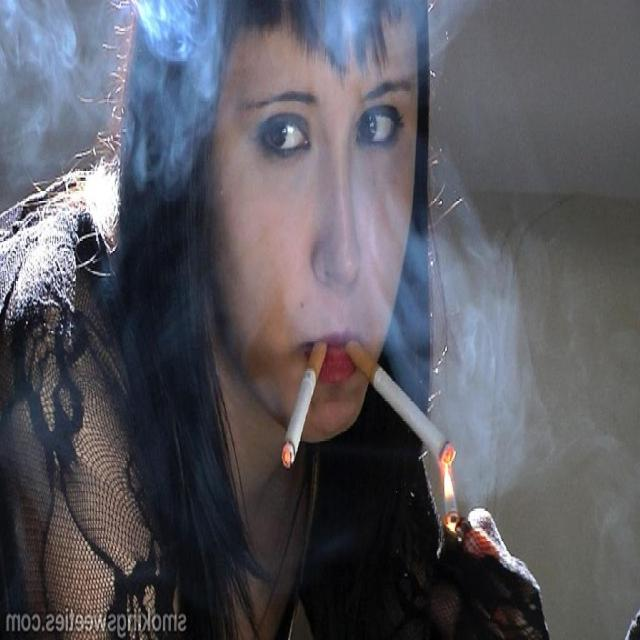smoking: (122, 4, 465, 499)
